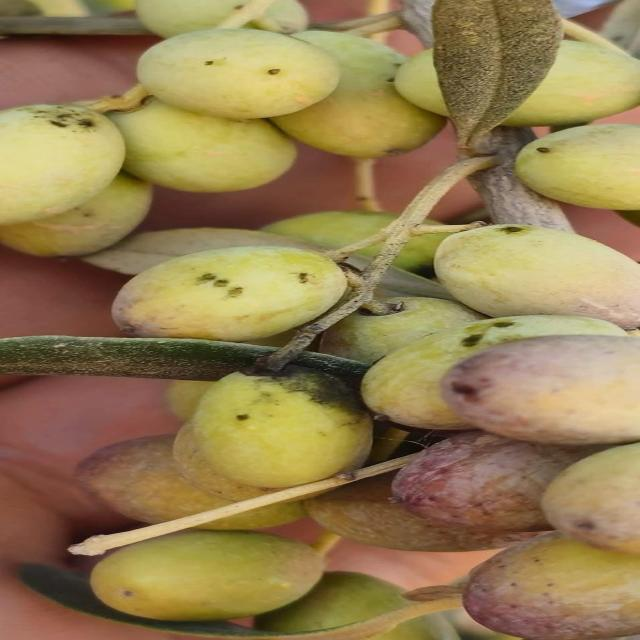Anthracnose: (361, 316, 626, 428), (114, 247, 346, 340), (440, 336, 638, 444), (434, 226, 639, 329), (186, 374, 370, 488), (138, 28, 340, 118), (0, 106, 124, 227)
